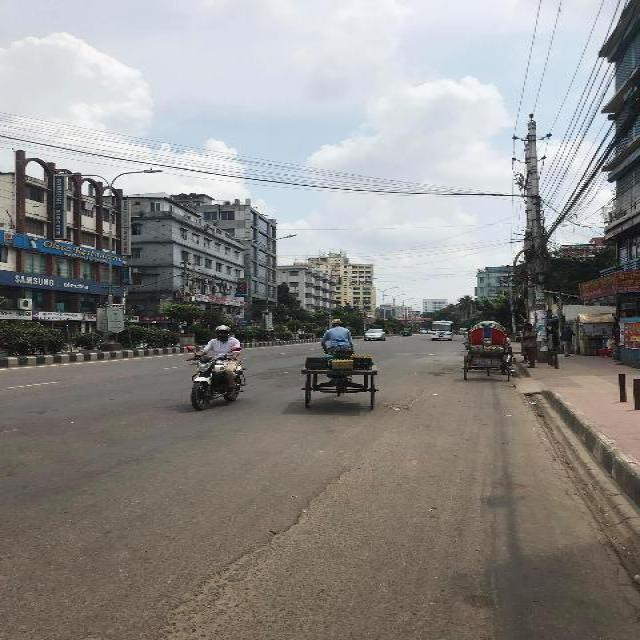bike: (184, 323, 250, 412)
vehicle: (299, 317, 380, 414), (461, 320, 512, 382), (431, 321, 455, 342), (363, 329, 386, 342), (402, 328, 411, 338)
